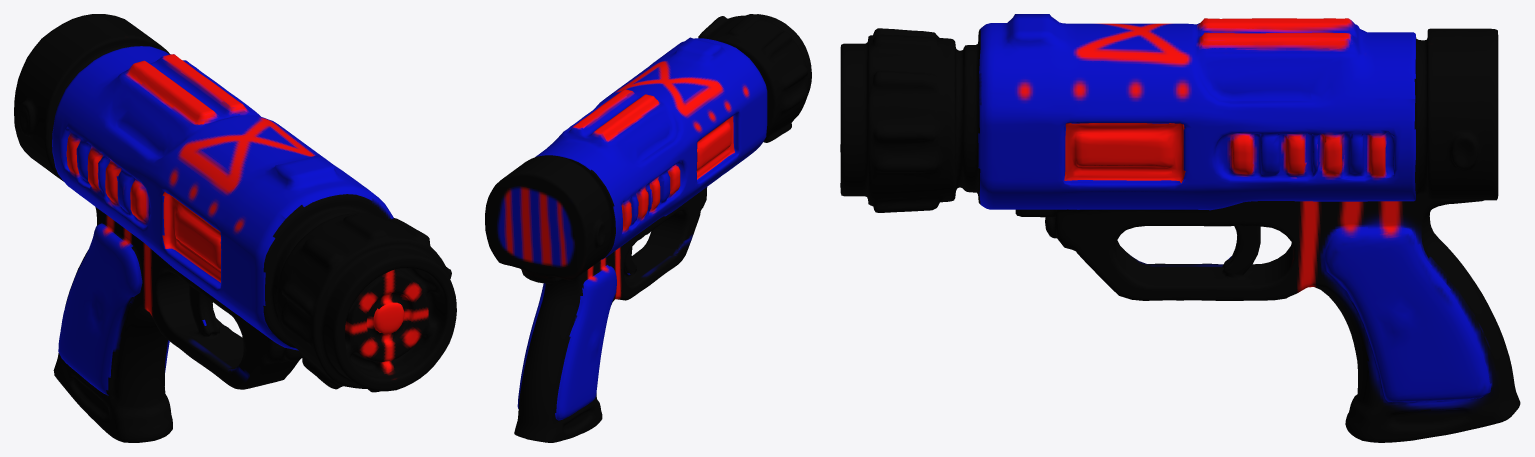
File: БластерТ.fbx
3 renders of one model, left to right at view 1: azimuth 30°, elevation 25°; view 2: azimuth 150°, elevation 25°; view 3: azimuth 270°, elevation 25°, orthographic. The views are drawn at different scales.
Parts seen in each view (by area): view 1: model; view 2: model; view 3: model.
Boxes of the visible parts, bbox=[...] form: model: bbox=[14, 14, 456, 442]; model: bbox=[485, 14, 811, 442]; model: bbox=[840, 14, 1520, 442].
Bounding box in the file's own units: 50.01 × 125 × 190.
Materials: 1 (1 with a texture image).
